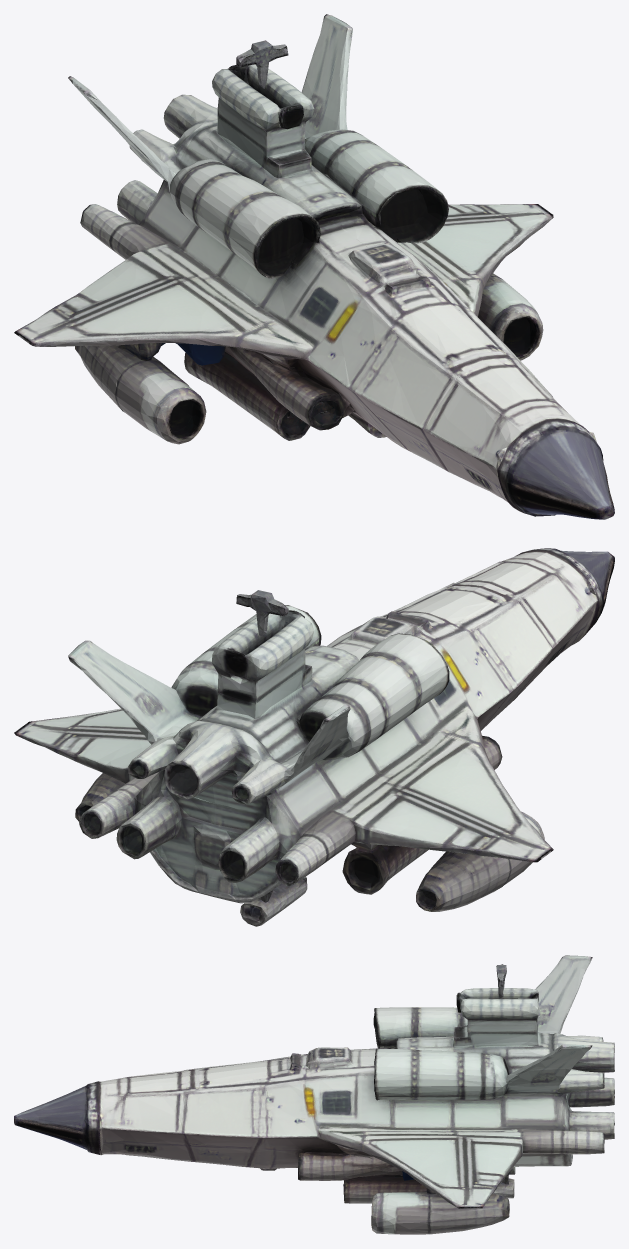
The model's file is Strider Scout.glb.
3 renders of one model, top to bottom at view 1: azimuth 30°, elevation 25°; view 2: azimuth 150°, elevation 25°; view 3: azimuth 270°, elevation 25°, orthographic. The views are drawn at different scales.
Parts seen in each view (by area): view 1: world; view 2: world; view 3: world.
Part boxes in pixels (x1=…): world: x1=14, y1=14, x2=614, y2=519; world: x1=14, y1=548, x2=614, y2=926; world: x1=14, y1=955, x2=614, y2=1234.
Bounding box in the file's own units: 0.7102 × 0.4239 × 1.
1 material, 1 textured.
